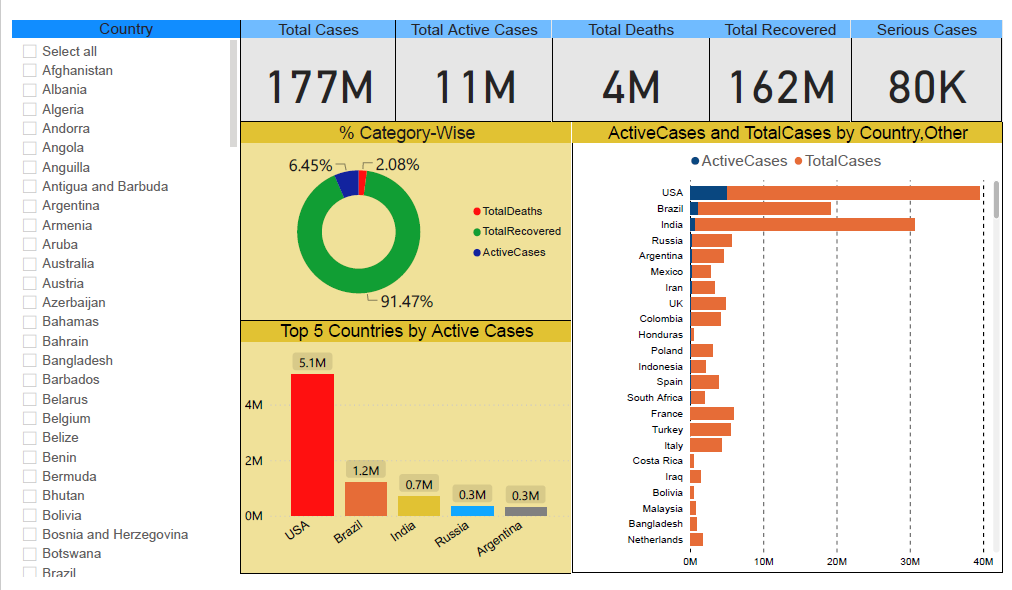

The page's visual inventory and layout, read from the dashboard file:
{"tool":"powerbi","page":{"name":"Page 1","canvas":[1280,720],"ordinal":0},"visuals":[{"type":"slicer","title":"Country","fields":{"Values":["Table 1.Country,Other"]},"box":[0,0,294,862.1],"z":0},{"type":"card","title":"Total Cases","fields":{"Values":["Sum(Table 1.TotalCases)"]},"box":[294.3,0,200.6,131.3],"z":1000,"group":"g1"},{"type":"card","title":"Total Active Cases","fields":{"Values":["Sum(Table 1.ActiveCases)"]},"box":[494.9,0,202.2,131.3],"z":2000,"group":"g1"},{"type":"card","title":"Total Deaths","fields":{"Values":["Sum(Table 1.TotalDeaths)"]},"box":[697.2,0,203.8,131.3],"z":3000,"group":"g1"},{"type":"card","title":"Total Recovered","fields":{"Values":["Sum(Table 1.TotalRecovered)"]},"box":[901,0,183,131.3],"z":4000,"group":"g1"},{"type":"card","title":"Serious Cases","fields":{"Values":["Sum(Table 1.Serious,Critical)"]},"box":[1084,0,195.8,131.3],"z":5000,"group":"g1"},{"type":"donutChart","title":"% Category-Wise","fields":{"Y":["Sum(Table 1.TotalDeaths)","Sum(Table 1.TotalRecovered)","Sum(Table 1.ActiveCases)"]},"box":[294.3,131.3,428.5,256.8],"z":6000},{"type":"clusteredColumnChart","title":"Top 5 Countries by Active Cases","fields":{"Category":["Table 1.Country,Other"],"Y":["Sum(Table 1.ActiveCases)"]},"box":[294.3,388.1,428.5,327.5],"z":7000},{"type":"barChart","fields":{"Category":["Table 1.Country,Other"],"Y":["Sum(Table 1.ActiveCases)","Sum(Table 1.TotalCases)"]},"box":[722.9,131.3,557,584.4],"z":8000},{"type":"group","id":"g1","title":"Group 1","box":[294.3,0,985.5,131.3],"z":8001}]}

Visuals, with their boxes in screenshot pixels (x1, y1, x2, y2):
"Country" slicer: <region>8, 16, 237, 589</region>
"Total Cases" card: <region>237, 16, 394, 118</region>
"Total Active Cases" card: <region>394, 16, 551, 118</region>
"Total Deaths" card: <region>551, 16, 710, 118</region>
"Total Recovered" card: <region>710, 16, 853, 118</region>
"Serious Cases" card: <region>853, 16, 1006, 118</region>
"% Category-Wise" donutChart: <region>237, 118, 571, 318</region>
"Top 5 Countries by Active Cases" clusteredColumnChart: <region>237, 318, 571, 574</region>
barChart - Table 1.Country,Other x Sum(Table 1.ActiveCases): <region>572, 118, 1006, 574</region>
"Group 1" group: <region>237, 16, 1006, 118</region>
